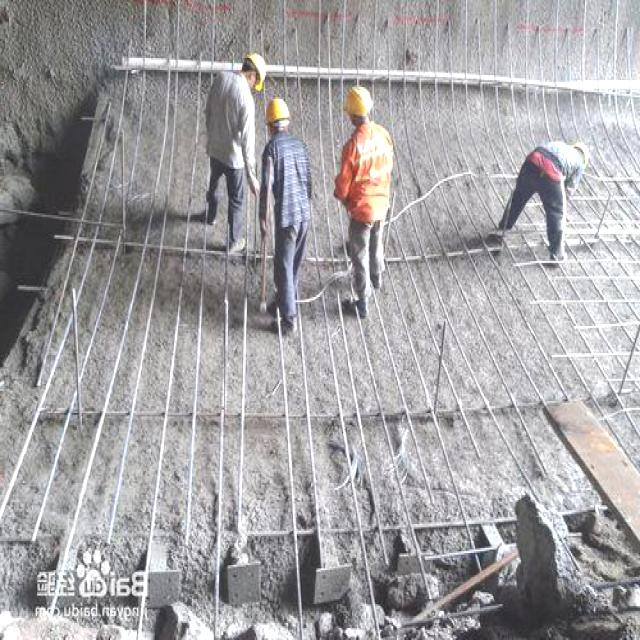head_helmet: (342, 85, 375, 122), (239, 53, 269, 84), (267, 96, 292, 121)
person: (193, 56, 260, 251), (337, 87, 394, 316), (489, 142, 591, 261), (261, 98, 303, 324)
